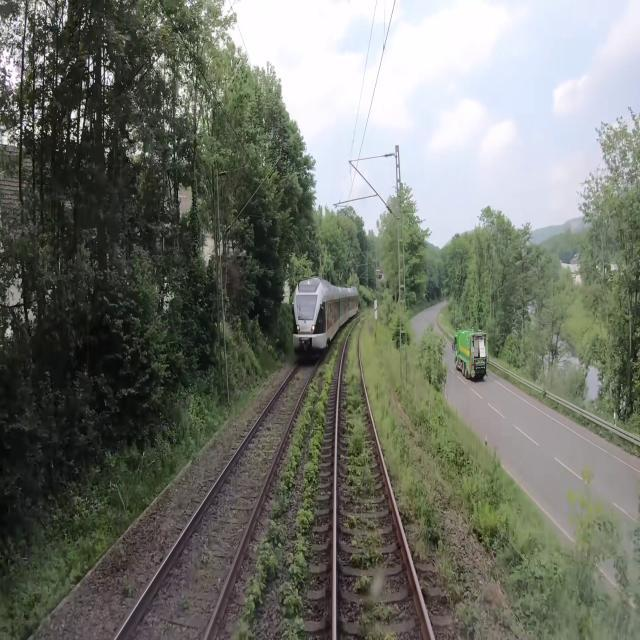Plant: (226, 311, 363, 639), (359, 312, 491, 634), (193, 372, 302, 582), (339, 311, 381, 500), (346, 511, 388, 570), (356, 596, 400, 639), (118, 572, 141, 604), (176, 586, 196, 616), (351, 573, 375, 595)
